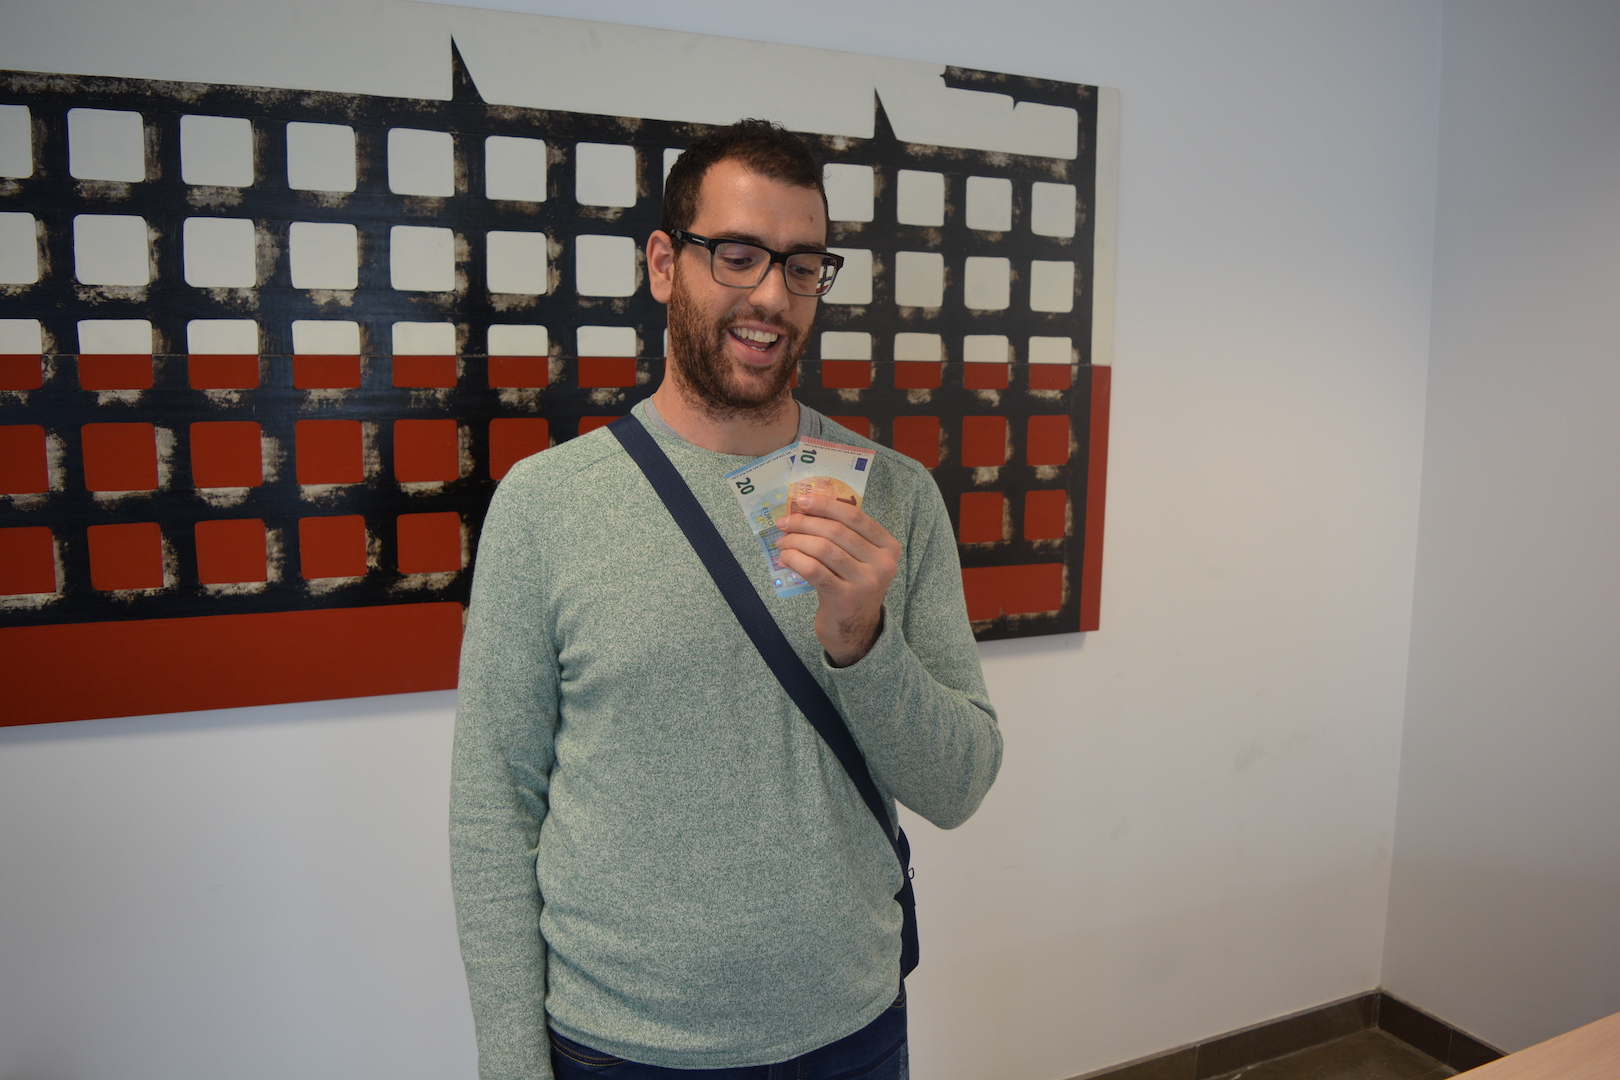billete: (726, 441, 817, 597), (786, 435, 877, 518)
